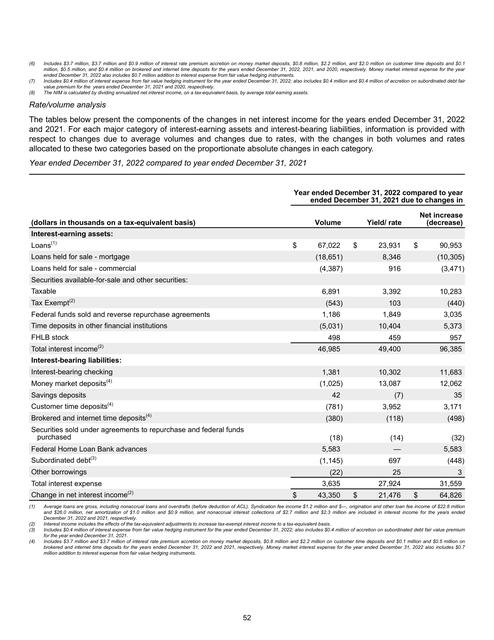box: (29, 185, 468, 503)
